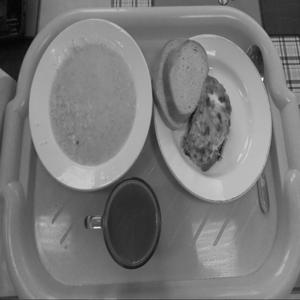bread: (155, 30, 209, 124)
cheese_sandwich: (185, 63, 239, 185)
coffee: (92, 168, 174, 272)
porridge: (37, 37, 147, 177)
